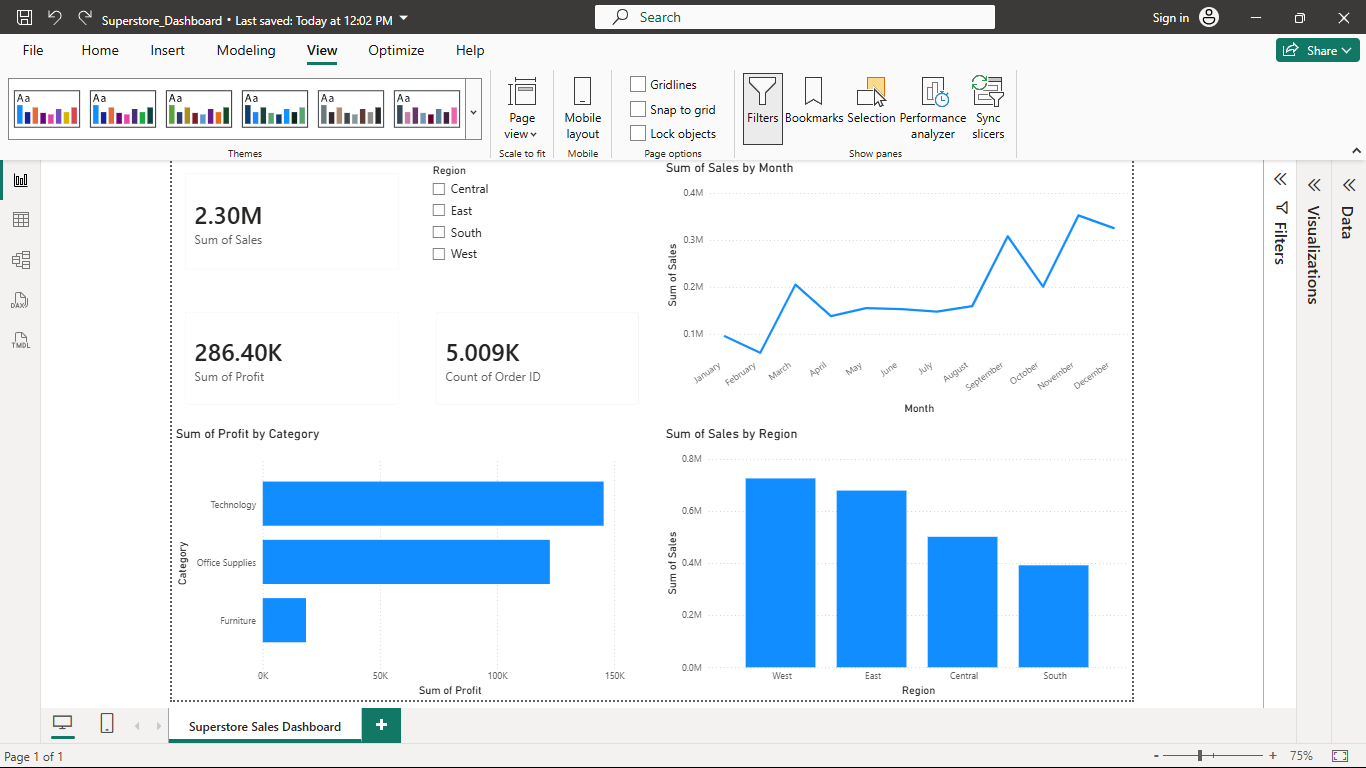

What the dashboard file says about the page in this screenshot:
{"tool":"powerbi","page":{"name":"Superstore Sales Dashboard","canvas":[1280,720],"ordinal":0},"visuals":[{"type":"cardVisual","fields":{"Data":["Sum(superstore_cleaned.Sales)"]},"box":[0,0,320.7,163.8],"z":0},{"type":"cardVisual","fields":{"Data":["Sum(superstore_cleaned.Profit)"]},"box":[0,185.8,320.7,158.3],"z":1000},{"type":"cardVisual","fields":{"Data":["Count(superstore_cleaned.Order ID)"]},"box":[334.5,185.8,305.5,158.3],"z":2000},{"type":"clusteredBarChart","fields":{"Category":["superstore_cleaned.Category"],"Y":["Sum(superstore_cleaned.Profit)"]},"box":[0,355.1,640,364.7],"z":3000},{"type":"clusteredColumnChart","fields":{"Category":["superstore_cleaned.Region"],"Y":["Sum(superstore_cleaned.Sales)"]},"box":[653.8,355.1,626.2,364.7],"z":4000},{"type":"lineChart","fields":{"Y":["Sum(superstore_cleaned.Sales)"],"Category":["superstore_cleaned.Order Date.Variation.Date Hierarchy.Month"]},"box":[653.8,0,626.2,344.1],"z":5000},{"type":"slicer","fields":{"Values":["superstore_cleaned.Region"]},"box":[334.5,0,305.5,167.9],"z":6000}]}

Visuals, with their boxes on the page's 1280x720 design canvas (x1, y1, x2, y2). These are canvas units, not pixel positions in the 1366x768 screenshot, which may show the page scaled, cropped or inside an application window:
cardVisual - Sum(superstore_cleaned.Sales): rect(0, 0, 321, 164)
cardVisual - Sum(superstore_cleaned.Profit): rect(0, 186, 321, 344)
cardVisual - Count(superstore_cleaned.Order ID): rect(334, 186, 640, 344)
clusteredBarChart - superstore_cleaned.Category x Sum(superstore_cleaned.Profit): rect(0, 355, 640, 720)
clusteredColumnChart - superstore_cleaned.Region x Sum(superstore_cleaned.Sales): rect(654, 355, 1280, 720)
lineChart - Sum(superstore_cleaned.Sales) x superstore_cleaned.Order Date.Variation.Date Hierarchy.Month: rect(654, 0, 1280, 344)
slicer - superstore_cleaned.Region: rect(334, 0, 640, 168)
